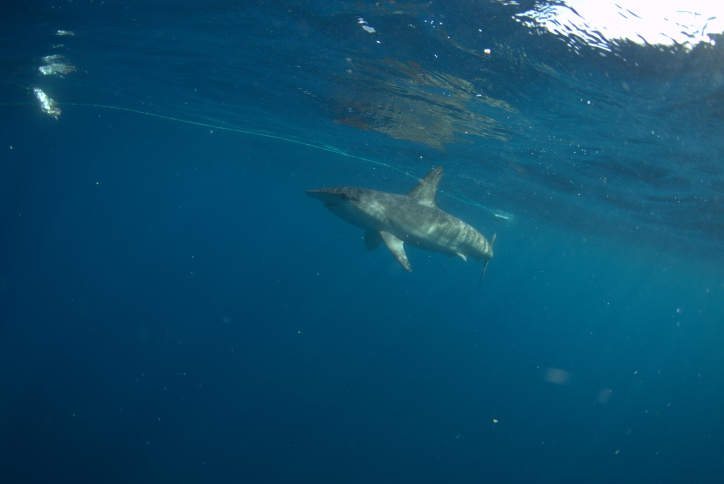Hammer: (294, 147, 510, 293)
